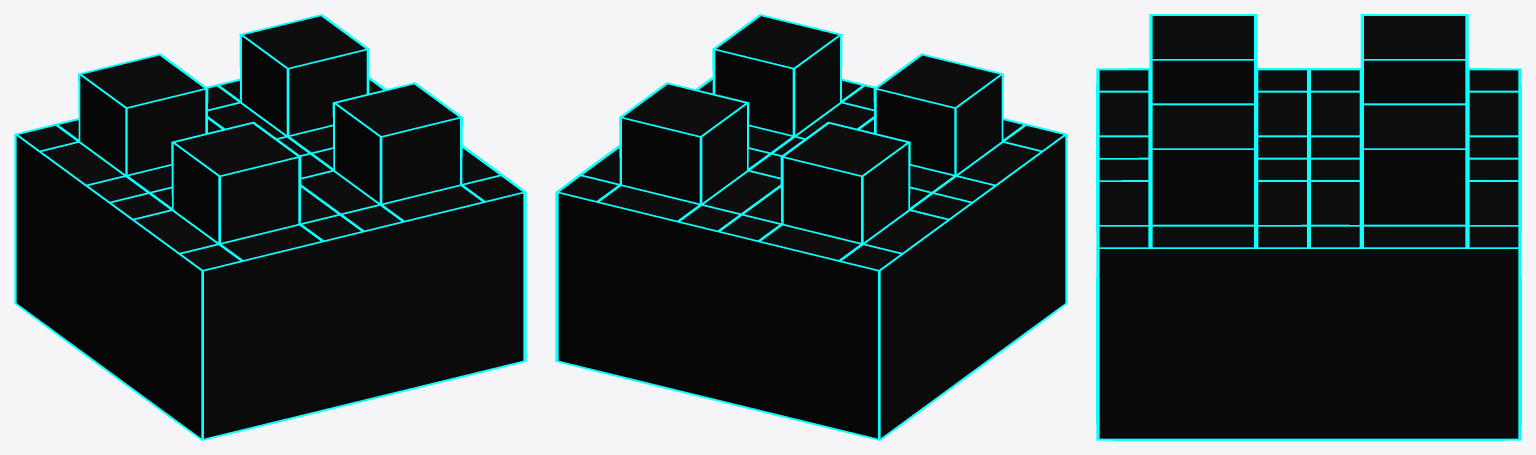
The model's file is Level Two Blue Lego Spike.fbx.
3 renders of one model, left to right at view 1: azimuth 30°, elevation 25°; view 2: azimuth 150°, elevation 25°; view 3: azimuth 270°, elevation 25°, orthographic. The views are drawn at different scales.
Visible parts, largest first — view 1: Cube; view 2: Cube; view 3: Cube.
Boxes of the visible parts, <box> form: Cube: <box>14,14,526,440</box>; Cube: <box>555,14,1067,440</box>; Cube: <box>1096,14,1521,440</box>.
Size of the model in its own units: 201 by 201 by 141.
